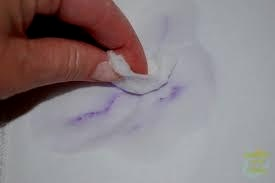ink: (75, 102, 111, 124), (163, 85, 187, 104)
